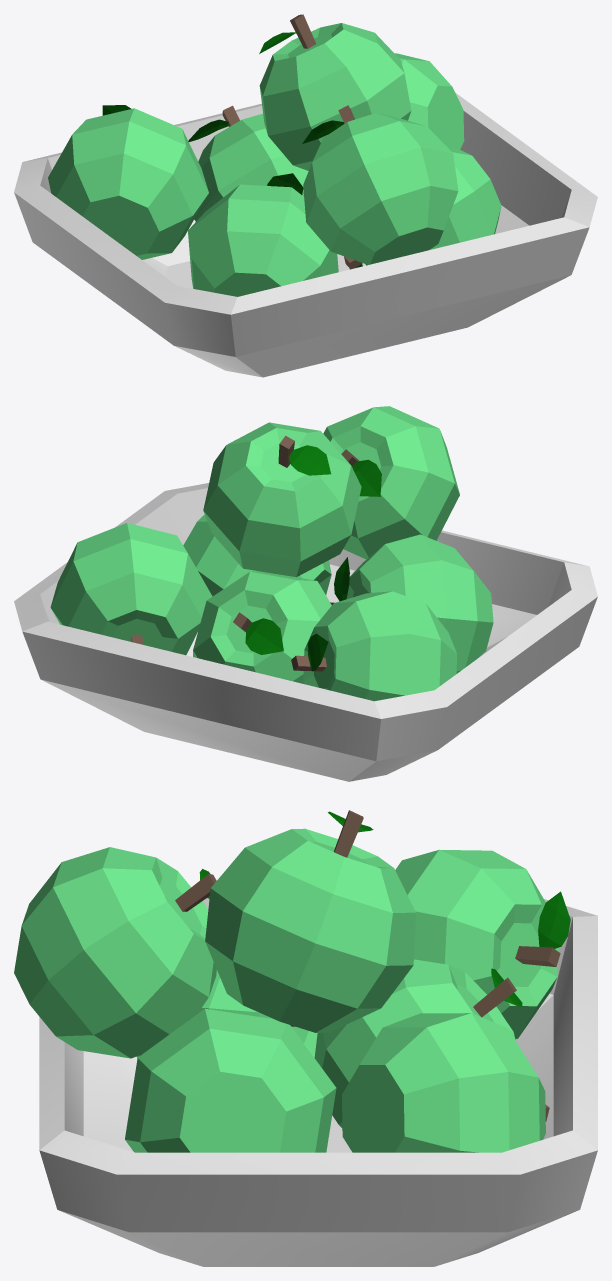
The model's file is SM_AppleBowl 1.fbx.
3 views of the same model, one above another, from view 1: azimuth 30°, elevation 25°; view 2: azimuth 150°, elevation 25°; view 3: azimuth 270°, elevation 25° (orthographic). The views are drawn at different scales.
Parts seen in each view (by area): view 1: SM_Prop_AppleBowl; view 2: SM_Prop_AppleBowl; view 3: SM_Prop_AppleBowl.
Boxes of the visible parts, x1,y1,x2,y2 form: SM_Prop_AppleBowl: [14, 14, 597, 377]; SM_Prop_AppleBowl: [14, 406, 597, 781]; SM_Prop_AppleBowl: [14, 810, 597, 1266].
Size of the model in its own units: 37.61 by 23.55 by 32.79.
